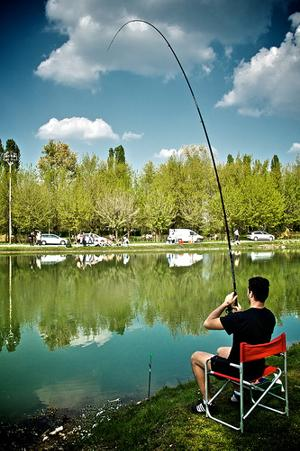person: (192, 275, 277, 414)
